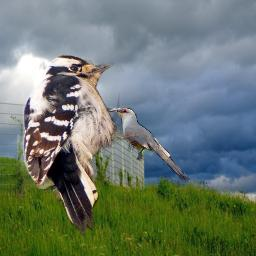Cuckoo: (104, 107, 191, 184)
Woodpecker: (17, 52, 139, 235)
